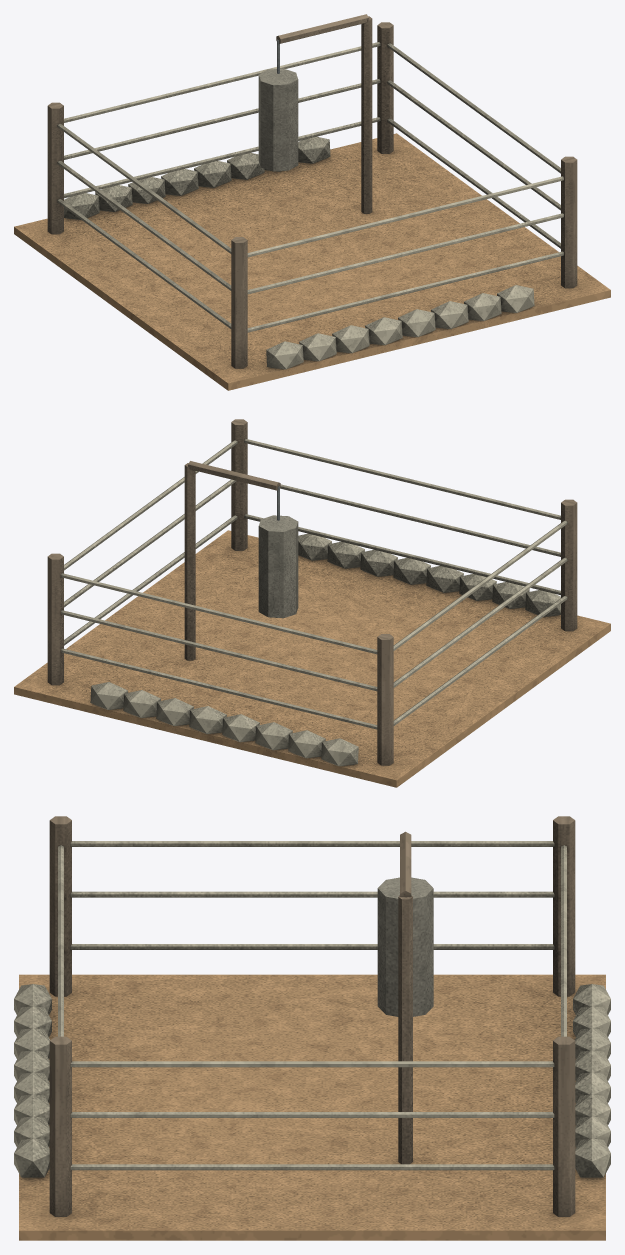
File: InfantryCenter.fbx
3 views of the same model, one above another, from view 1: azimuth 30°, elevation 25°; view 2: azimuth 150°, elevation 25°; view 3: azimuth 270°, elevation 25° (orthographic). The views are drawn at different scales.
Visible parts, largest first — view 1: InfantryCenter; view 2: InfantryCenter; view 3: InfantryCenter.
Part boxes in pixels (bbox=[...]): InfantryCenter: bbox=[14, 14, 610, 390]; InfantryCenter: bbox=[14, 419, 610, 787]; InfantryCenter: bbox=[14, 816, 610, 1240].
Bounding box in the file's own units: 3.25 × 1.68 × 3.2.
1 material, 1 textured.
